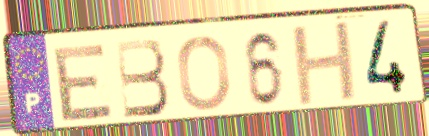4: (363, 18, 411, 99)
6: (242, 29, 287, 107)
B: (112, 36, 172, 121)
E: (51, 40, 117, 125)
H: (288, 18, 361, 110)
O: (175, 33, 234, 113)
